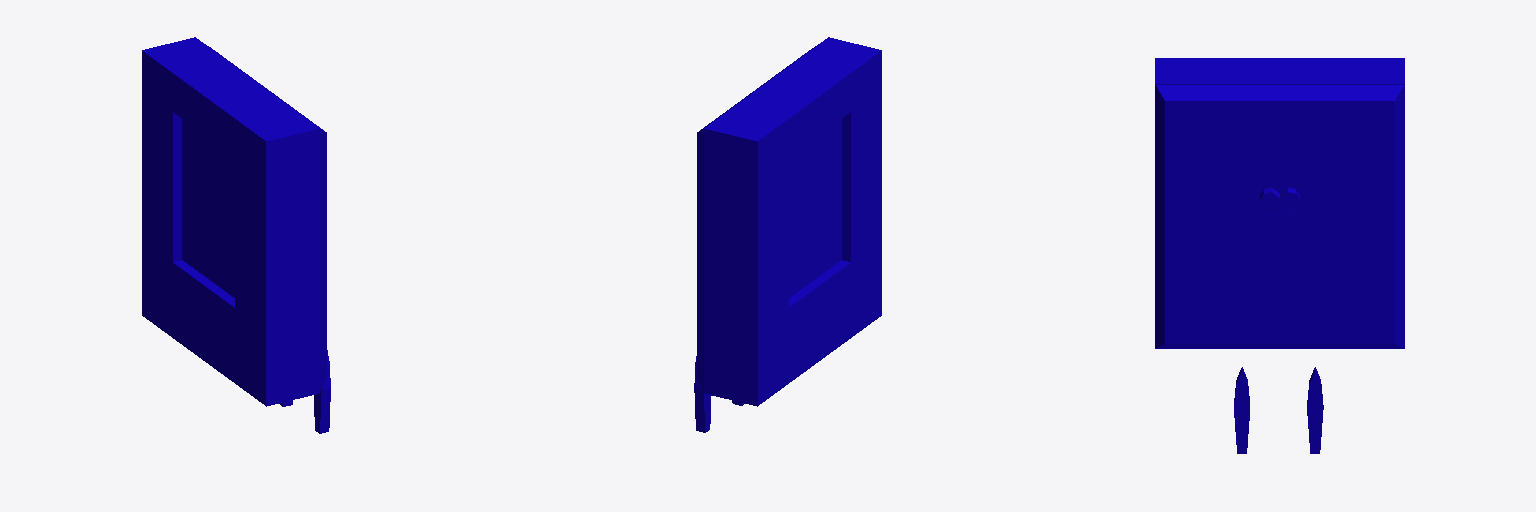
Rendered from handRight.obj.
3 views of the same model, side by side, from view 1: azimuth 30°, elevation 25°; view 2: azimuth 150°, elevation 25°; view 3: azimuth 270°, elevation 25° (orthographic).
Parts seen in each view (by area): view 1: 筐体_Cube, 立方体.004, 槍左_立方体.007; view 2: 筐体_Cube, 立方体.004, 槍右_立方体.006; view 3: 立方体.004, 筐体_Cube, 槍右_立方体.006, 槍左_立方体.007, 立方体_立方体.008.
Boxes of the visible parts, box(x1,y1,x2,y2) form: 筐体_Cube: box(142, 37, 319, 406); 立方体.004: box(182, 44, 326, 403); 槍左_立方体.007: box(314, 350, 330, 433); 筐体_Cube: box(704, 37, 881, 406); 立方体.004: box(697, 44, 841, 403); 槍右_立方体.006: box(694, 356, 711, 432); 立方体.004: box(1155, 85, 1404, 347); 筐体_Cube: box(1155, 58, 1404, 348); 槍右_立方体.006: box(1307, 367, 1323, 453); 槍左_立方体.007: box(1234, 367, 1249, 453); 立方体_立方体.008: box(1260, 188, 1299, 223).
Bounding box in the file's own units: 1.96 × 6.24 × 4.08.